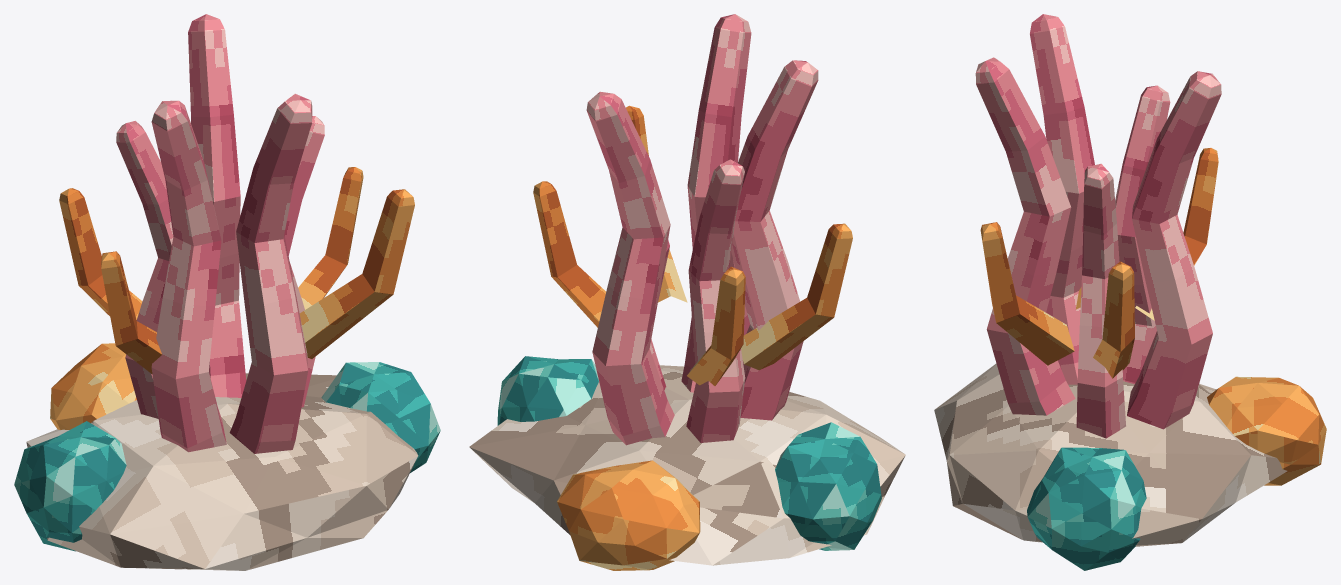
Rendered from coral.glb.
The picture shows the model from 3 angles, left to right: view 1: azimuth 30°, elevation 25°; view 2: azimuth 150°, elevation 25°; view 3: azimuth 270°, elevation 25°; orthographic projection. The views are drawn at different scales.
Parts seen in each view (by area): view 1: coral; view 2: coral; view 3: coral.
Part boxes in pixels (x1,y1,x2,y2): coral: (14,14,440,570); coral: (469,14,905,570); coral: (934,14,1326,570).
Bounding box in the file's own units: 0.781 × 0.9 × 0.7193.
2 materials, 2 textured.
